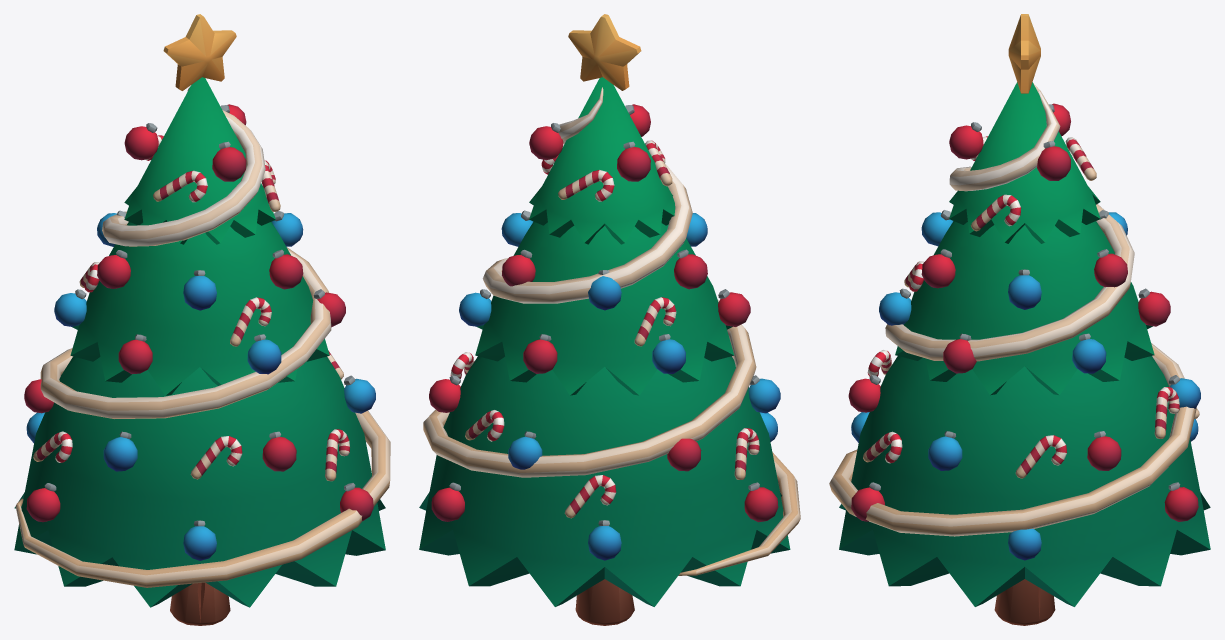
Rendered from christmas_tree_withoutLights.glb.
3 views of the same model, side by side, from view 1: azimuth 30°, elevation 25°; view 2: azimuth 150°, elevation 25°; view 3: azimuth 270°, elevation 25° (orthographic).
Parts seen in each view (by area): view 1: christmas_tree_withoutLights; view 2: christmas_tree_withoutLights; view 3: christmas_tree_withoutLights.
Part boxes in pixels (bbox=[...]): christmas_tree_withoutLights: bbox=[14, 14, 390, 625]; christmas_tree_withoutLights: bbox=[419, 14, 800, 625]; christmas_tree_withoutLights: bbox=[829, 14, 1210, 625].
Bounding box in the file's own units: 2.41 × 4.03 × 2.32.
1 material, 1 textured.
